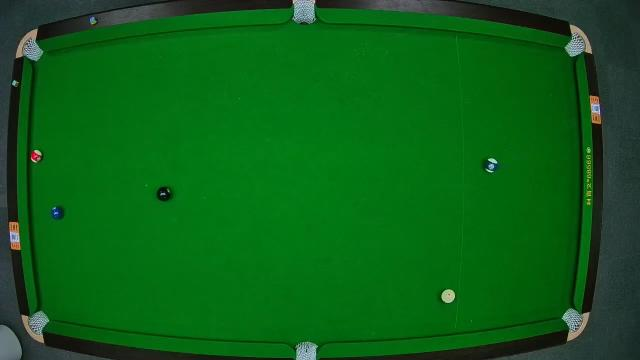bag1: (22, 39, 42, 61)
bag2: (292, 0, 318, 24)
bag3: (564, 33, 588, 55)
bag4: (27, 310, 48, 334)
bag5: (293, 340, 319, 360)
bag6: (562, 308, 582, 330)
ball0: (440, 288, 456, 304)
ball10: (484, 156, 500, 173)
ball11: (29, 146, 43, 162)
ball2: (50, 206, 66, 222)
ball8: (156, 187, 172, 202)
